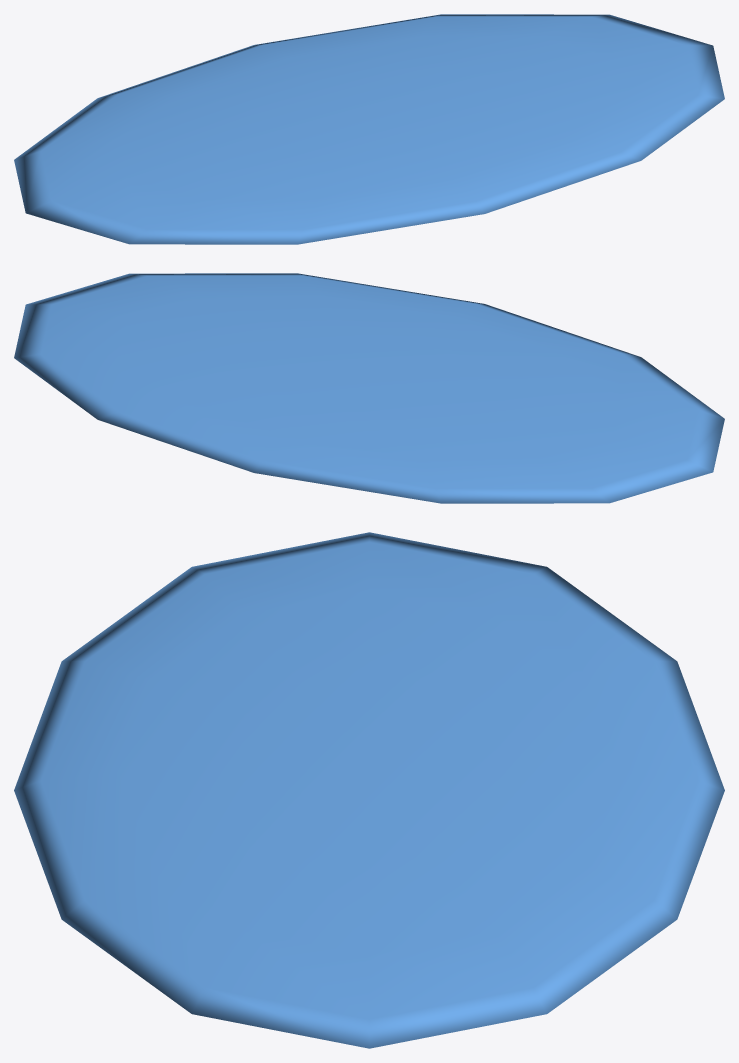
File: puddle.glb
The picture shows the model from 3 angles, top to bottom: view 1: azimuth 30°, elevation 25°; view 2: azimuth 150°, elevation 25°; view 3: azimuth 270°, elevation 25°; orthographic projection. The views are drawn at different scales.
Parts seen in each view (by area): view 1: Water; view 2: Water; view 3: Water.
Boxes of the visible parts, left/top/right/bottom form: Water: left=14, top=14, right=724, bottom=244; Water: left=14, top=273, right=724, bottom=503; Water: left=14, top=532, right=724, bottom=1048.
Bounding box in the file's own units: 1.1 × 0.05 × 0.64.
